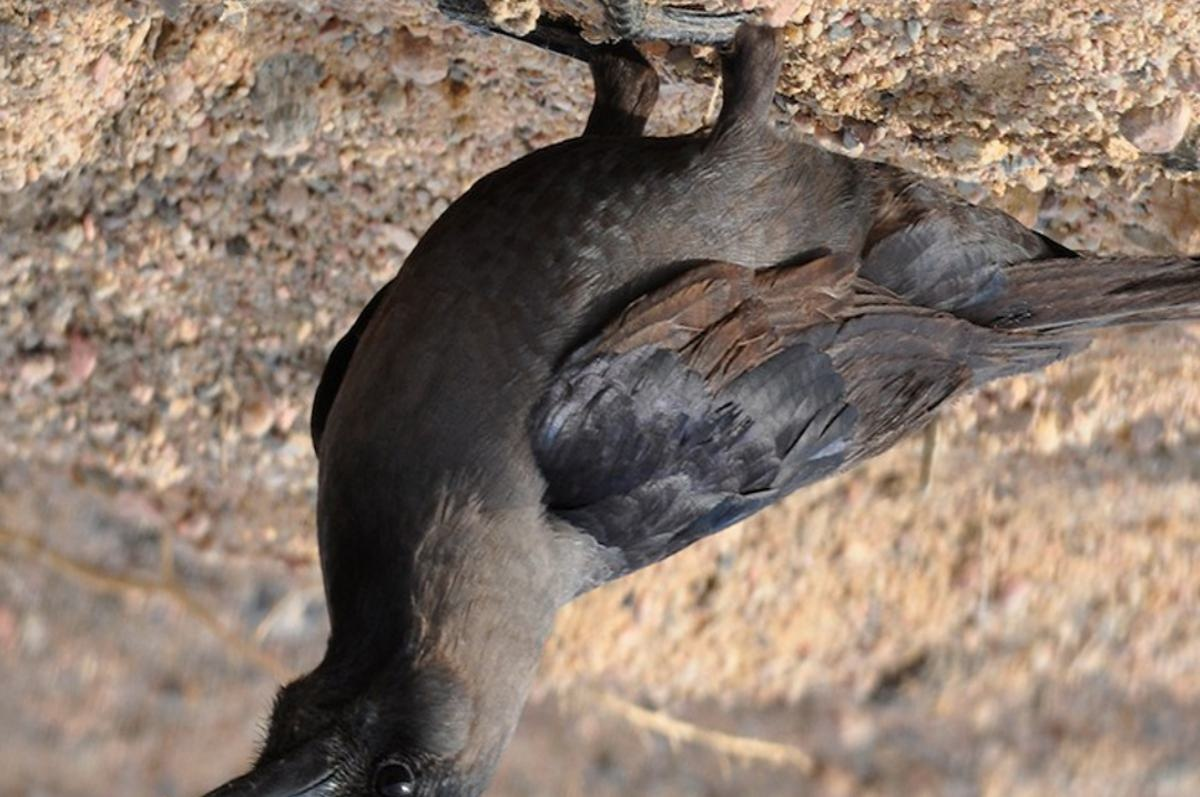crow: (186, 1, 1200, 796)
